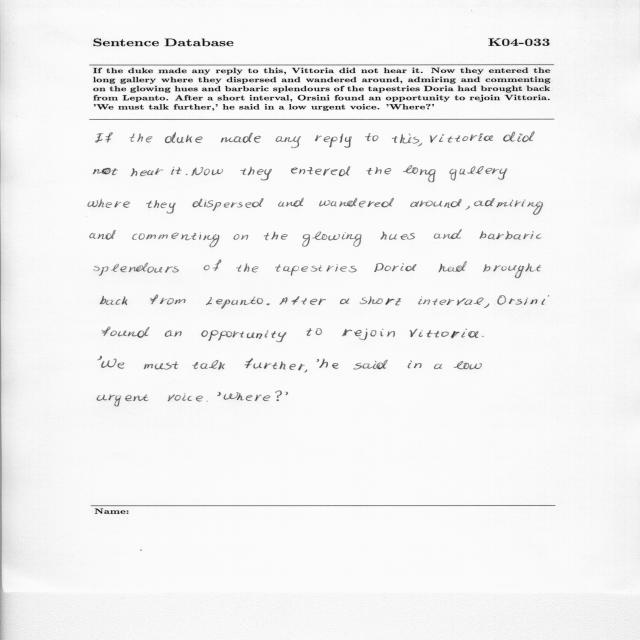word: (132, 233, 219, 248), (474, 198, 543, 215), (94, 263, 179, 276), (201, 331, 286, 343), (275, 264, 357, 276), (302, 231, 362, 247), (193, 198, 264, 211), (449, 166, 508, 181), (483, 264, 541, 279), (244, 358, 305, 371), (206, 297, 263, 309), (319, 198, 394, 207), (430, 133, 493, 143), (97, 395, 149, 407), (410, 329, 479, 338), (418, 297, 484, 306), (291, 166, 350, 176), (342, 329, 395, 340), (403, 166, 436, 183), (480, 231, 542, 240), (498, 295, 550, 305), (315, 134, 352, 148), (103, 327, 150, 338), (410, 199, 462, 208), (240, 167, 272, 181), (279, 296, 326, 305), (146, 200, 176, 214), (165, 132, 203, 143), (224, 392, 270, 401), (221, 133, 261, 143), (374, 263, 417, 272), (88, 199, 130, 208), (360, 297, 401, 306), (151, 295, 186, 305), (353, 360, 388, 370), (192, 360, 225, 370), (503, 132, 535, 142), (438, 261, 467, 272), (380, 231, 415, 240), (275, 136, 301, 148), (191, 167, 223, 176), (167, 394, 203, 402), (144, 362, 178, 370), (131, 168, 164, 176), (90, 230, 116, 240), (434, 230, 462, 239), (100, 296, 128, 305), (278, 198, 304, 207), (101, 359, 124, 369), (263, 232, 288, 241), (454, 361, 482, 369), (320, 358, 339, 369), (130, 134, 153, 143), (367, 167, 392, 175), (204, 260, 222, 271), (236, 264, 258, 273), (392, 134, 411, 144), (96, 132, 113, 143), (93, 168, 118, 175), (306, 328, 322, 336), (365, 133, 379, 142), (165, 330, 182, 337), (408, 361, 422, 369), (412, 137, 422, 147), (234, 234, 249, 240), (171, 167, 182, 175), (275, 391, 282, 401), (340, 298, 350, 304), (434, 364, 442, 369), (484, 303, 489, 308), (465, 206, 470, 210), (98, 356, 102, 360), (217, 392, 221, 396), (304, 370, 308, 373), (266, 304, 270, 306), (317, 359, 319, 362), (286, 392, 288, 395), (481, 336, 484, 337), (186, 174, 188, 175), (207, 401, 208, 402)
